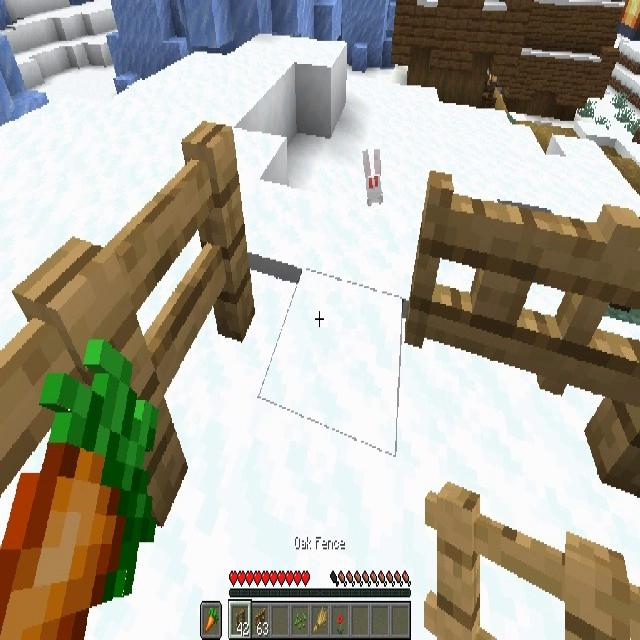rabbit: (362, 146, 383, 209)
